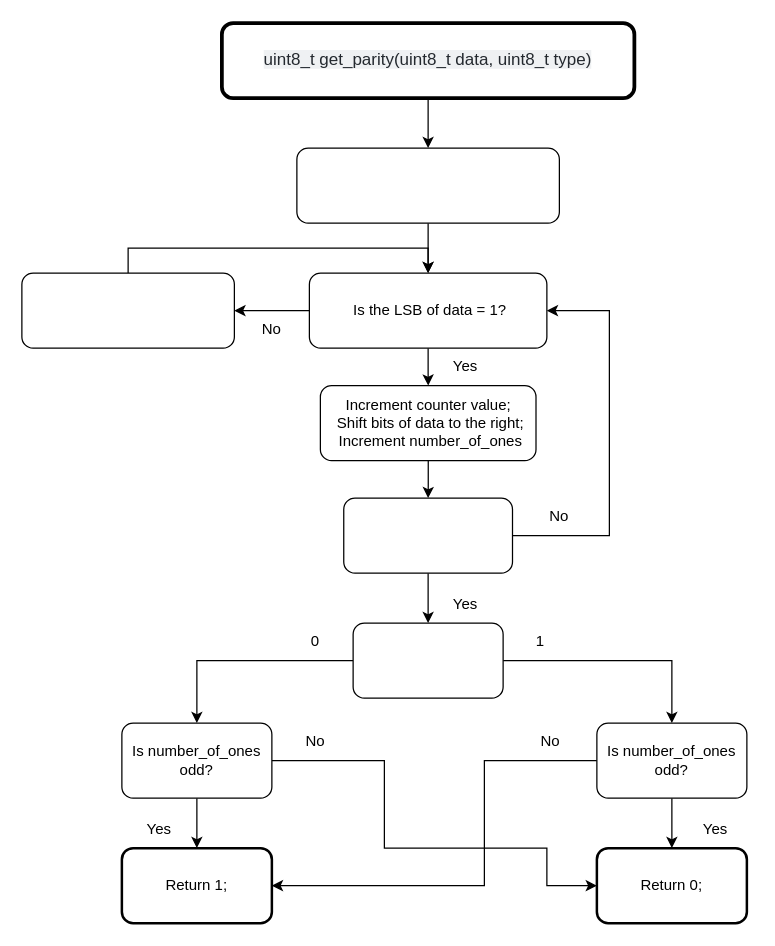
This 775x946 diagram has some shape labels left out. The shapes that lost their labels are listed below. From the top down, each one's box as (x1, y1, x2, y2) in pixels, then its label:
(296, 147, 559, 223): Initialize a counter variable; Initialize a number_of_ones variable
(21, 272, 234, 348): Increment counter value; Shift bits of data to the right;
(342, 497, 512, 573): Is the counter value = 8?
(352, 622, 503, 698): Is type value 1 (odd) or 0 (even)?
